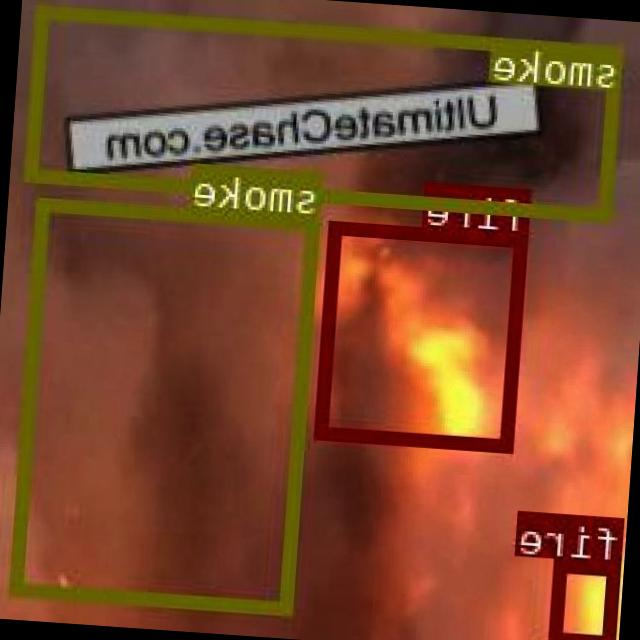fire: (316, 219, 532, 448), (551, 556, 622, 640)
smoke: (12, 196, 321, 611), (27, 5, 626, 218)
